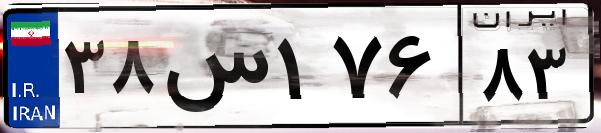1: (270, 28, 330, 110)
3: (57, 26, 110, 100), (525, 38, 570, 115)
6: (385, 28, 445, 110)
7: (330, 28, 385, 110)
8: (475, 38, 525, 113), (110, 28, 158, 98)
س: (158, 20, 270, 120)
